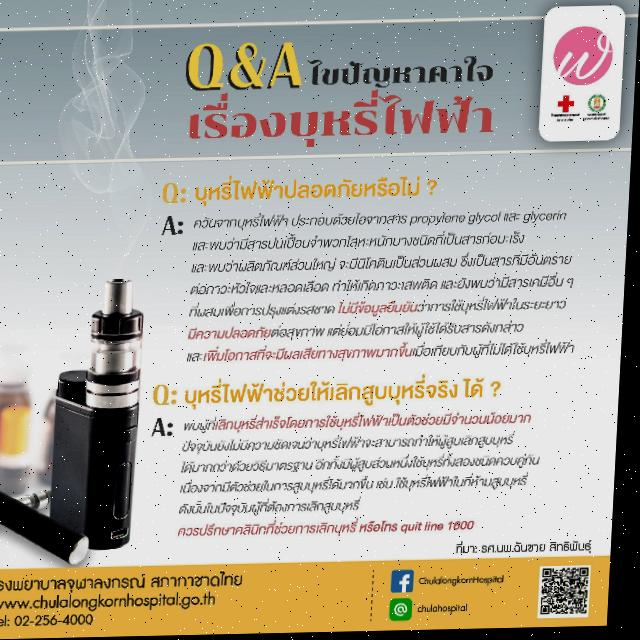vape: (53, 279, 149, 551), (0, 486, 100, 571)
